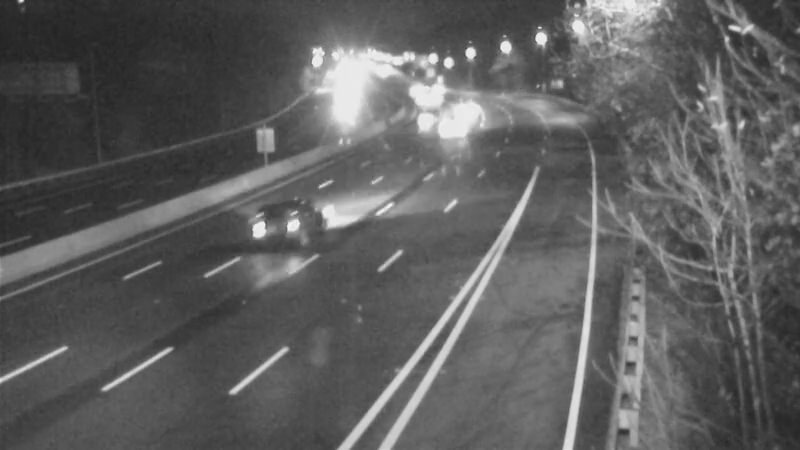vehicle: (245, 189, 325, 269), (439, 86, 489, 136), (400, 90, 450, 140), (429, 102, 479, 152)
